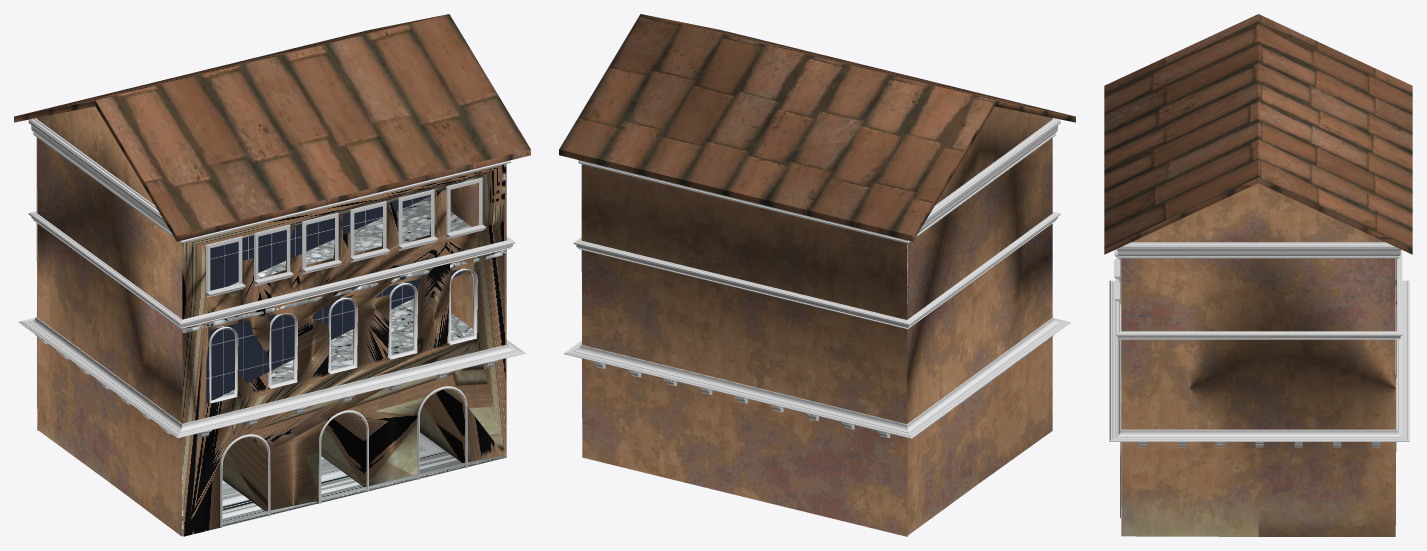
File: colonial_b.glb
3 renders of one model, left to right at view 1: azimuth 30°, elevation 25°; view 2: azimuth 150°, elevation 25°; view 3: azimuth 270°, elevation 25°, orthographic. The views are drawn at different scales.
Visible parts, largest first — view 1: Plane.006, Facade_front, Plane.002, Cube.018, Cube, Plane, Plane.001, Plane.003, Cube.024; view 2: Plane.004, Plane.006, Plane.002, Cube.018; view 3: Plane.003, Plane.006, Cube.018.
Part boxes in pixels (x1,y1,x2,y2): Plane.006: (14,14,530,241); Facade_front: (182,164,506,536); Plane.002: (37,106,182,536); Cube.018: (19,118,525,503); Cube: (182,196,505,535); Plane: (206,265,477,403); Plane.001: (210,174,479,290); Plane.003: (430,164,506,454); Cube.024: (220,434,270,527); Plane.004: (581,164,907,536); Plane.006: (559,14,1075,241); Plane.002: (907,106,1052,535); Cube.018: (563,118,1070,438); Plane.003: (1121,183,1395,536); Plane.006: (1104,14,1412,254); Cube.018: (1109,242,1409,517).
Bounding box in the file's own units: 11.5 × 12 × 9.16.
Materials: 9 (8 with a texture image).
